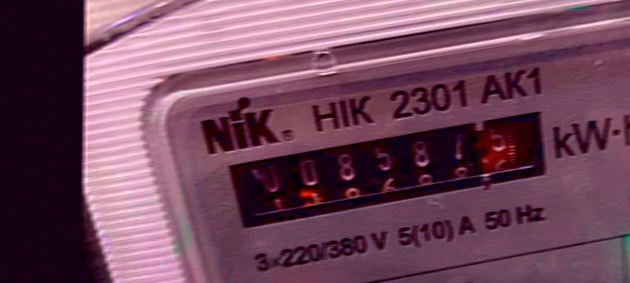0: (296, 155, 323, 189), (258, 163, 285, 195)
5: (373, 143, 396, 174), (487, 122, 509, 153)
6: (492, 157, 510, 174)
7: (448, 131, 470, 165)
8: (335, 151, 360, 184), (410, 137, 433, 171)
screen: (221, 108, 569, 234)
